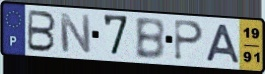7: (102, 12, 130, 58)
A: (204, 22, 242, 65)
B: (134, 16, 167, 61), (26, 8, 58, 53)
N: (58, 12, 93, 56)
P: (173, 19, 206, 63)
